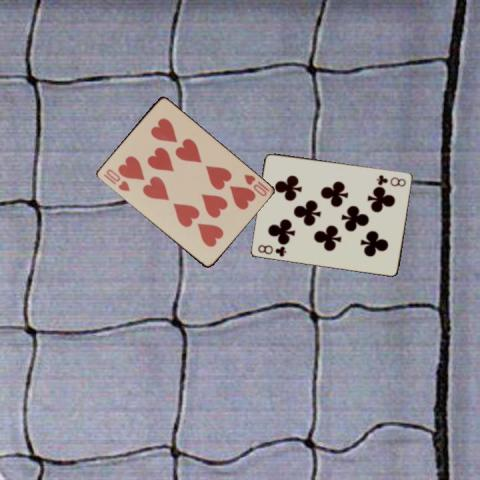10h: (100, 166, 131, 193), (241, 171, 270, 198)
8c: (255, 241, 288, 258), (374, 172, 407, 188)
